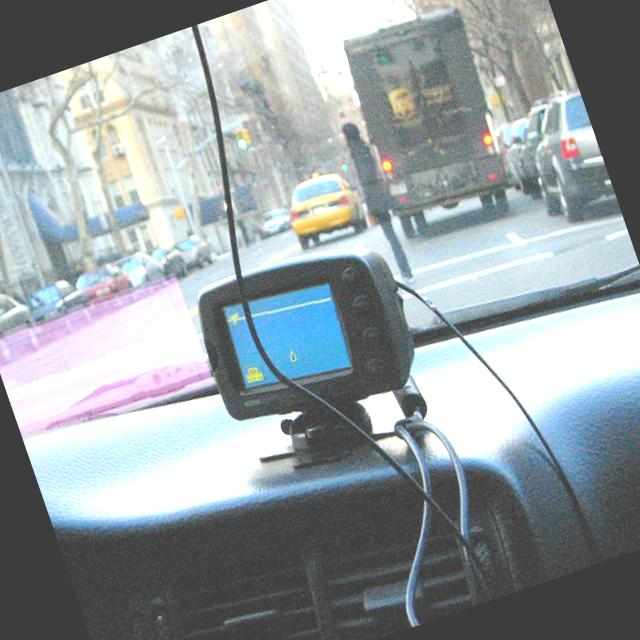Vehicle: (271, 0, 615, 368), (334, 0, 526, 247), (506, 82, 619, 230), (279, 164, 372, 250), (500, 98, 575, 200), (489, 114, 551, 200), (0, 282, 43, 367), (71, 255, 137, 309), (154, 229, 216, 282), (26, 274, 85, 324), (110, 246, 164, 293), (489, 116, 529, 156), (138, 240, 179, 279), (253, 205, 289, 238)
